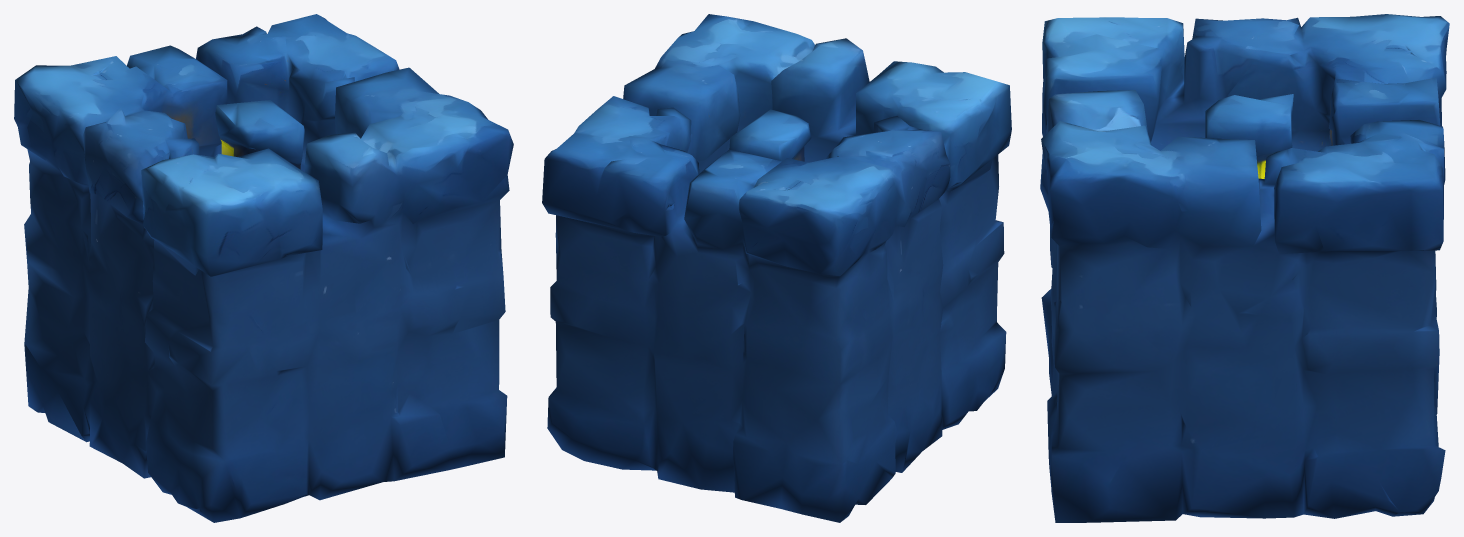
Rendered from Wall_C3_C.glb.
3 views of the same model, side by side, from view 1: azimuth 30°, elevation 25°; view 2: azimuth 150°, elevation 25°; view 3: azimuth 270°, elevation 25° (orthographic). The views are drawn at different scales.
Visible parts, largest first — view 1: tripo_node_c7cbac18-27dd-4823-b399-14a6076d18ae; view 2: tripo_node_c7cbac18-27dd-4823-b399-14a6076d18ae; view 3: tripo_node_c7cbac18-27dd-4823-b399-14a6076d18ae.
Boxes of the visible parts, x1,y1,x2,y2 form: tripo_node_c7cbac18-27dd-4823-b399-14a6076d18ae: (14,14,513,522); tripo_node_c7cbac18-27dd-4823-b399-14a6076d18ae: (542,14,1011,522); tripo_node_c7cbac18-27dd-4823-b399-14a6076d18ae: (1040,14,1449,522).
Bounding box in the file's own units: 0.9618 × 0.9669 × 1.
Materials: 1 (1 with a texture image).
